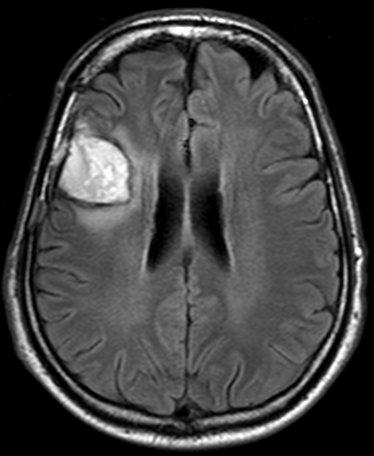Tumour-Meningioma: (47, 128, 157, 257)
